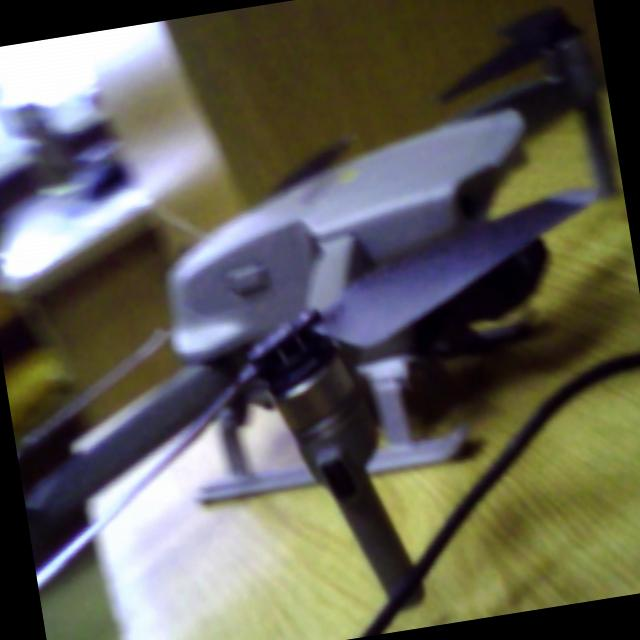drone: (0, 27, 640, 582)
